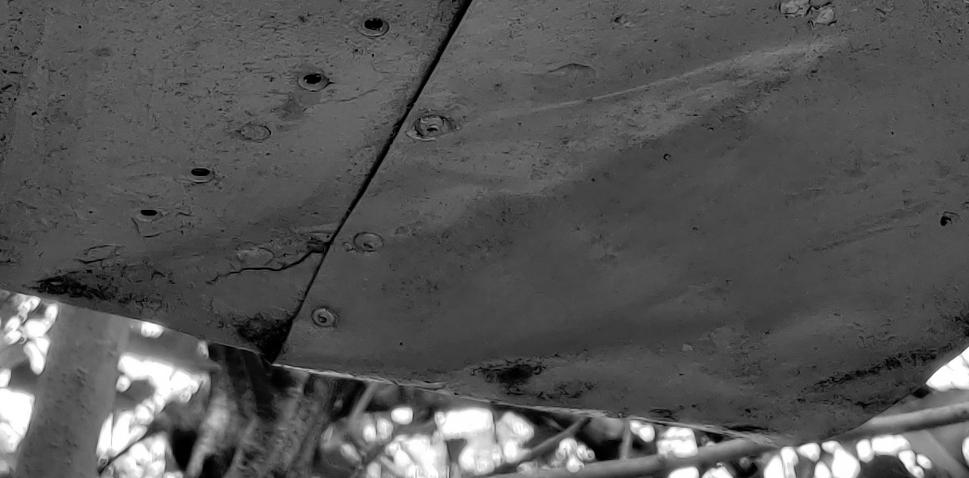dent: (0, 1, 969, 478)
